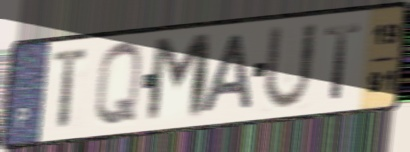A: (198, 31, 255, 117)
M: (143, 30, 215, 127)
Q: (92, 39, 145, 131)
T: (51, 44, 92, 134), (323, 21, 363, 102)
U: (259, 20, 320, 114)
